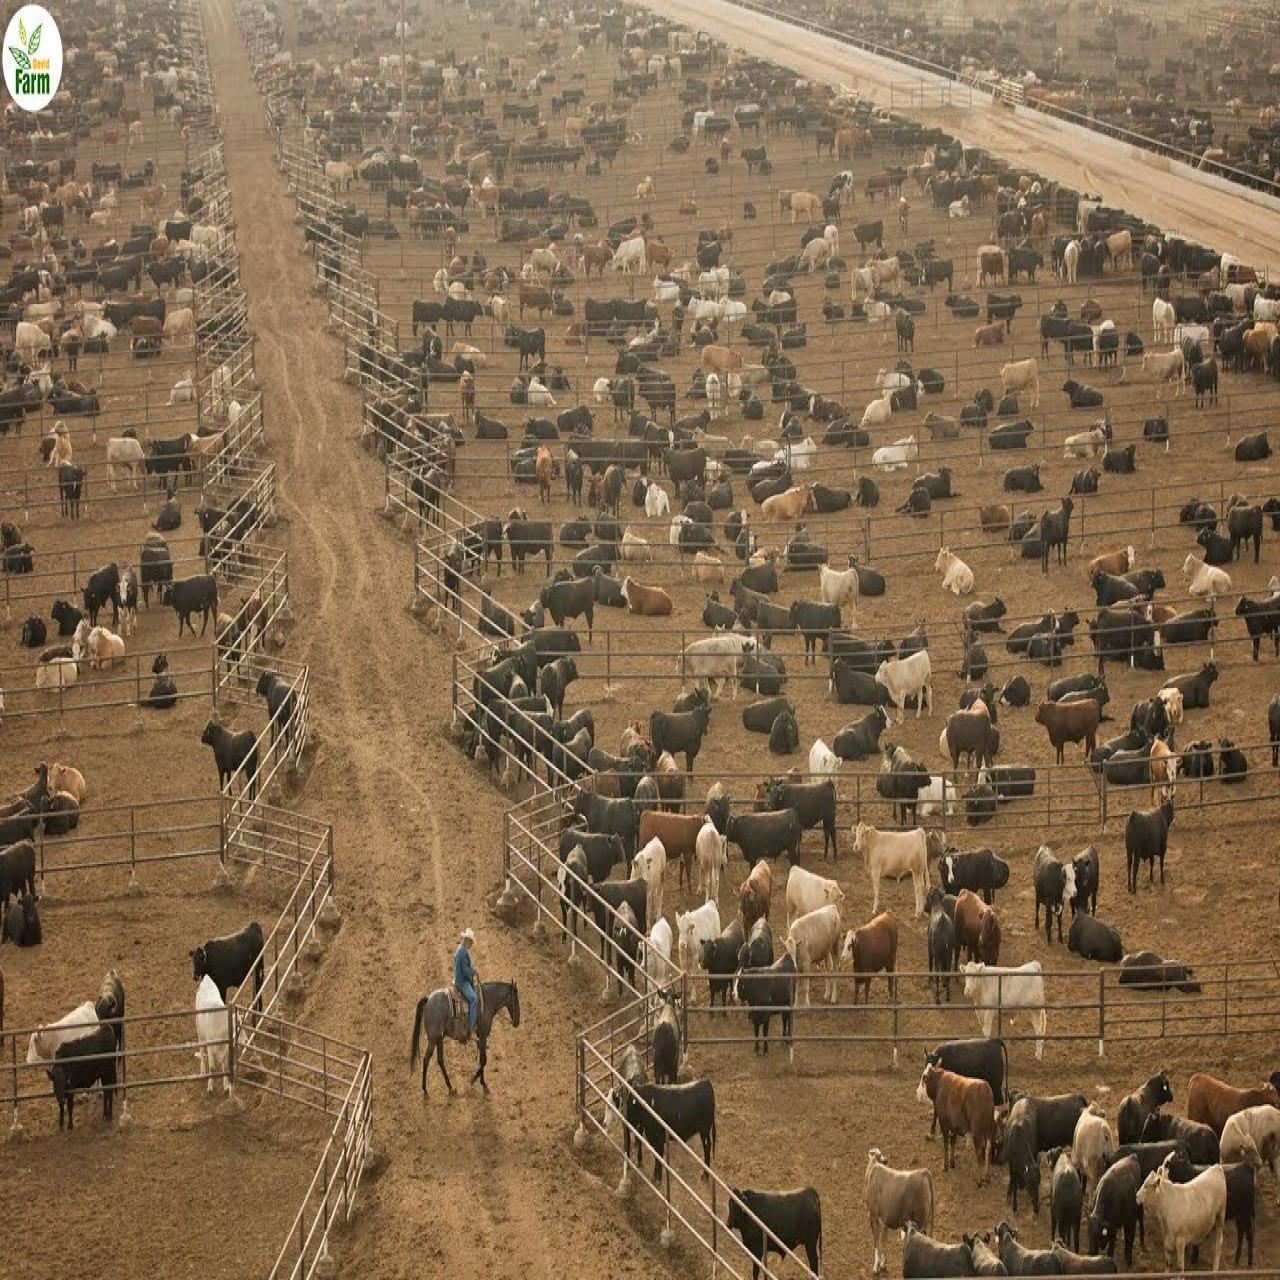cow: (605, 1070, 729, 1234), (1160, 1150, 1267, 1271), (717, 1178, 822, 1280), (1138, 1166, 1233, 1276), (962, 948, 1050, 1065), (43, 1016, 121, 1146), (1182, 1076, 1280, 1171), (186, 920, 268, 1023), (930, 1070, 1000, 1175), (855, 822, 931, 915), (247, 658, 302, 771), (191, 979, 248, 1087), (1088, 1148, 1141, 1265), (927, 1034, 1007, 1111), (730, 806, 799, 892), (867, 1160, 939, 1240), (28, 999, 95, 1083), (941, 888, 1005, 974), (1115, 1069, 1177, 1153), (1118, 934, 1217, 987), (1005, 1095, 1044, 1223), (647, 975, 689, 1091), (198, 719, 261, 795), (844, 912, 901, 995), (935, 844, 1012, 906), (1065, 890, 1123, 971), (0, 840, 41, 953), (927, 520, 983, 602), (1039, 694, 1103, 765), (900, 1234, 998, 1280), (1135, 1110, 1221, 1160), (648, 708, 710, 778), (1040, 1148, 1085, 1242), (1234, 586, 1280, 676), (1121, 808, 1169, 892), (619, 564, 678, 632), (539, 573, 598, 641), (166, 572, 220, 644), (1165, 648, 1223, 715), (1177, 325, 1220, 411), (947, 708, 1000, 777), (877, 651, 934, 714), (818, 556, 862, 625), (93, 964, 128, 1046), (998, 350, 1040, 416), (104, 434, 147, 496), (1040, 499, 1074, 571), (79, 550, 113, 620), (147, 644, 181, 713), (59, 459, 90, 526), (1064, 369, 1107, 416), (1216, 726, 1248, 784), (1189, 358, 1220, 409)
